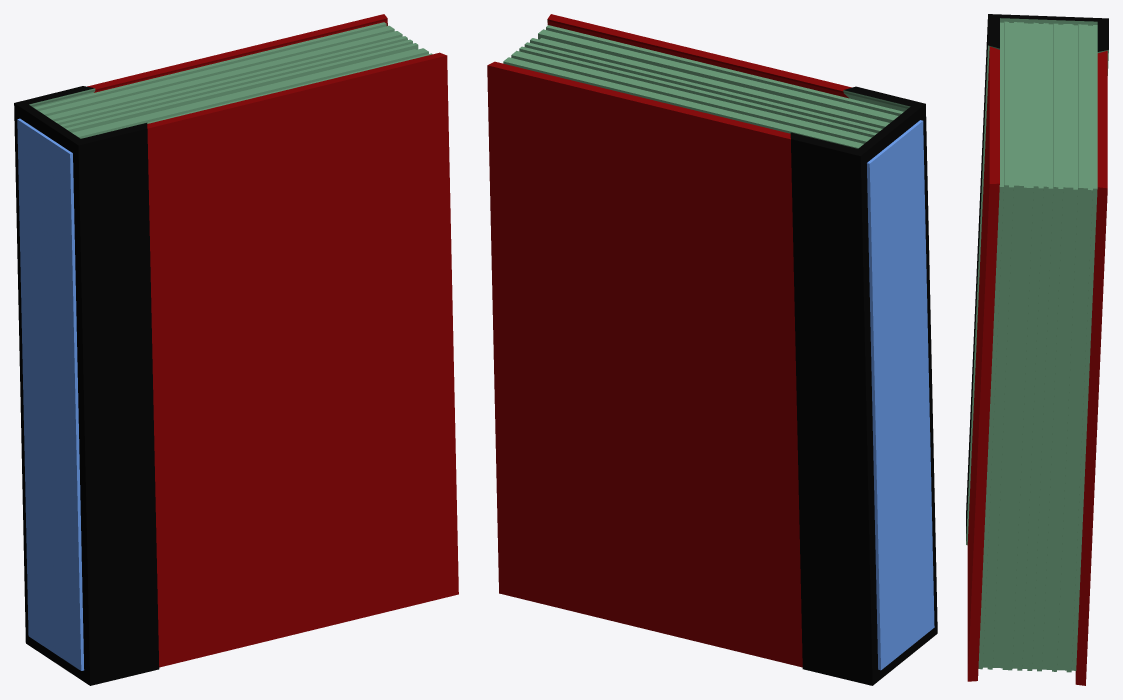
File: DeskBook3.fbx
The picture shows the model from 3 angles, left to right: view 1: azimuth 30°, elevation 25°; view 2: azimuth 150°, elevation 25°; view 3: azimuth 270°, elevation 25°; orthographic projection. The views are drawn at different scales.
Parts seen in each view (by area): view 1: Book.005; view 2: Book.005; view 3: Book.005.
Boxes of the visible parts, box(x1,y1,x2,y2) form: Book.005: box(14, 14, 458, 685); Book.005: box(487, 14, 937, 685); Book.005: box(966, 14, 1108, 685).
Bounding box in the file's own units: 128 × 176 × 45.32.
